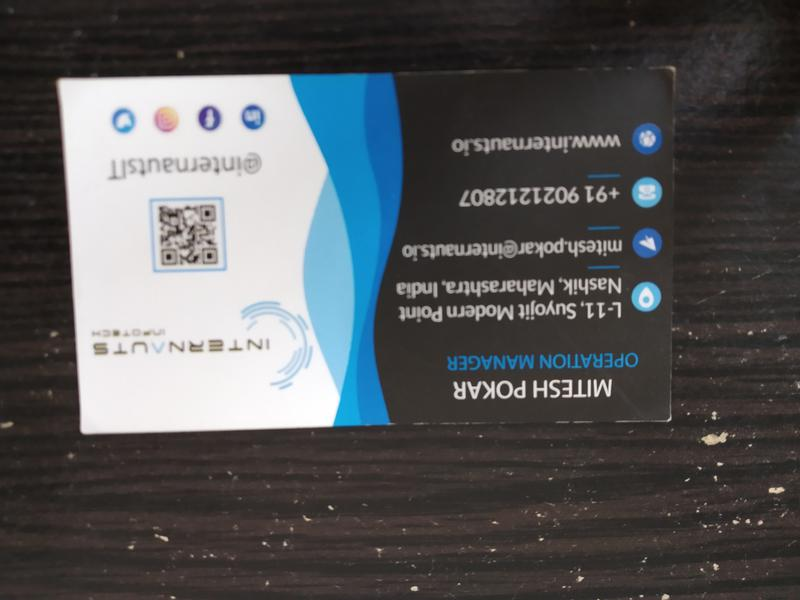card: (56, 68, 683, 438)
